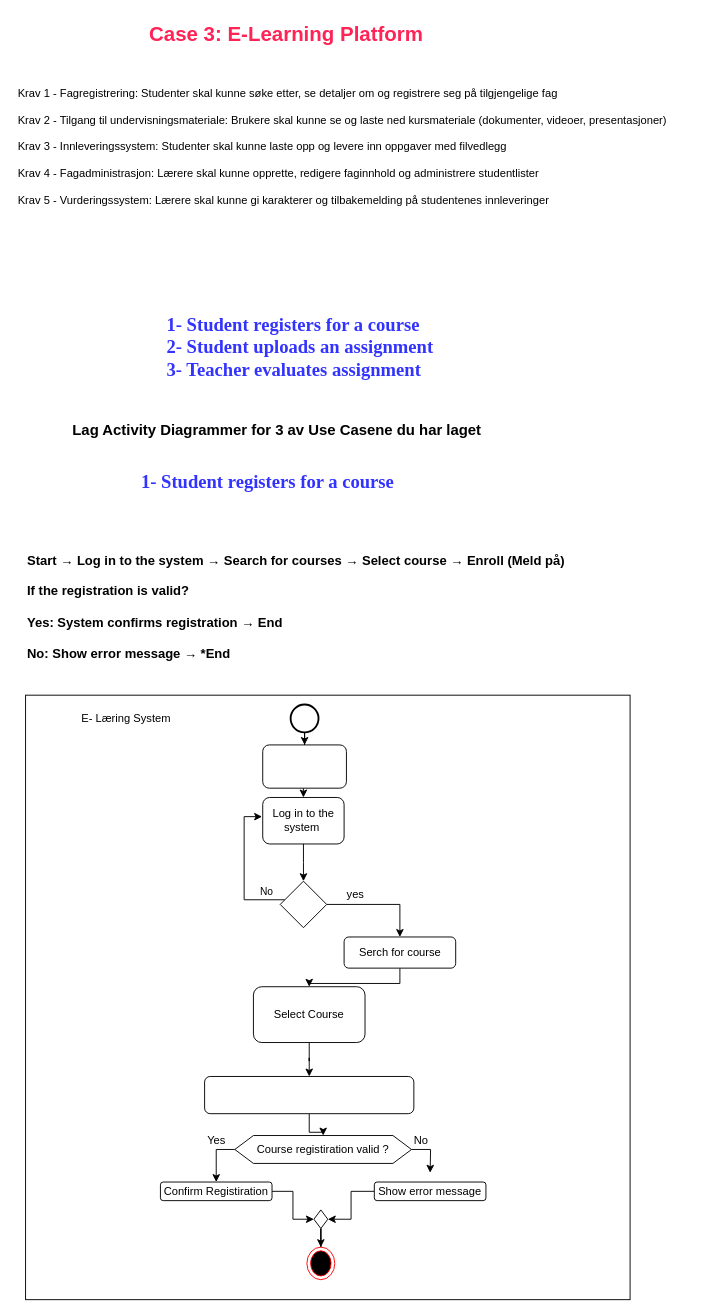
This 701x1316 diagram has some shape labels left out. The shapes that lost their labels are listed below. From the top down, each one's centre as x and y in pixels, then its label:
At point (304, 766): "Opprett konto".
At point (303, 904): "Logget inn?".
At point (309, 1095): "Register for course".
